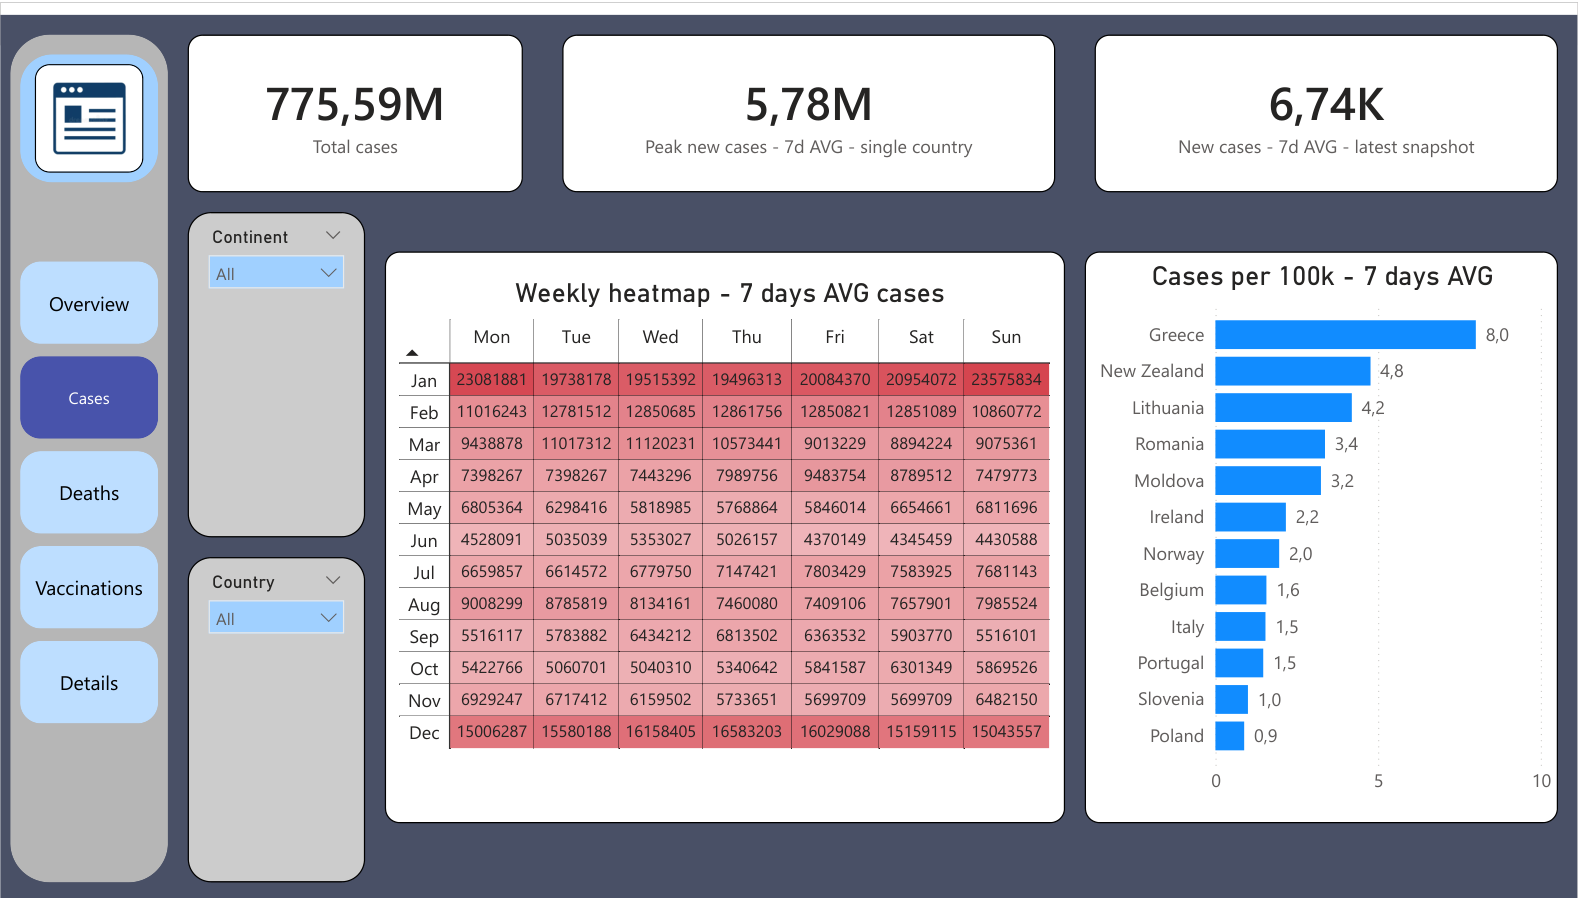

What the dashboard file says about the page in this screenshot:
{"tool":"powerbi","page":{"name":"Cases","canvas":[1280,720],"ordinal":1},"visuals":[{"type":"shape","box":[8,16,128,688],"z":0},{"type":"pageNavigator","box":[16,200,112,376],"z":1000},{"type":"cardVisual","fields":{"Data":["covid_final.Total cases"]},"box":[152,16,272,128],"z":2000},{"type":"cardVisual","fields":{"Data":["covid_final.New cases - 7 days"]},"box":[888,16,376,128],"z":3000},{"type":"slicer","fields":{"Values":["covid_final.location"]},"box":[152,440,144,264],"z":4000},{"type":"slicer","fields":{"Values":["covid_final.continent"]},"box":[152,160,144,264],"z":5000},{"type":"shape","box":[16,32,112,104],"z":6000},{"type":"image","box":[28,39.6,88,88],"z":7000},{"type":"cardVisual","fields":{"Data":["covid_final.Peak new cases - 7 days"]},"box":[456,16,400,128],"z":8000},{"type":"clusteredBarChart","title":"Cases per 100k - 7 days  AVG","fields":{"Category":["covid_final.location"],"Y":["covid_final.Cases per 100k - 7 days"]},"box":[880,192,384,464],"z":9000},{"type":"pivotTable","title":"Weekly heatmap - 7 days AVG cases","fields":{"Rows":["DateTable.Month"],"Columns":["DateTable.Weekday"],"Values":["covid_final.New cases 7d (Heatmap)"]},"box":[312,192,552,464],"z":10000}]}

Visuals, with their boxes in screenshot pixels (x1, y1, x2, y2), scaled from the page's 1280x720 canvas onto the 1578x898 screenshot:
shape: bbox(10, 20, 168, 878)
pageNavigator: bbox(20, 249, 158, 718)
cardVisual - covid_final.Total cases: bbox(187, 20, 523, 180)
cardVisual - covid_final.New cases - 7 days: bbox(1095, 20, 1558, 180)
slicer - covid_final.location: bbox(187, 549, 365, 878)
slicer - covid_final.continent: bbox(187, 200, 365, 529)
shape: bbox(20, 40, 158, 170)
image: bbox(35, 49, 143, 159)
cardVisual - covid_final.Peak new cases - 7 days: bbox(562, 20, 1055, 180)
"Cases per 100k - 7 days  AVG" clusteredBarChart: bbox(1085, 239, 1558, 818)
"Weekly heatmap - 7 days AVG cases" pivotTable: bbox(385, 239, 1065, 818)
